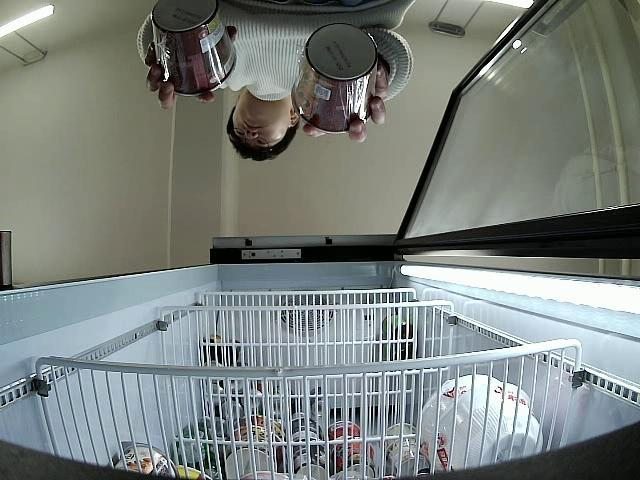06_nuguri_S: (292, 24, 378, 132), (150, 0, 236, 97)
